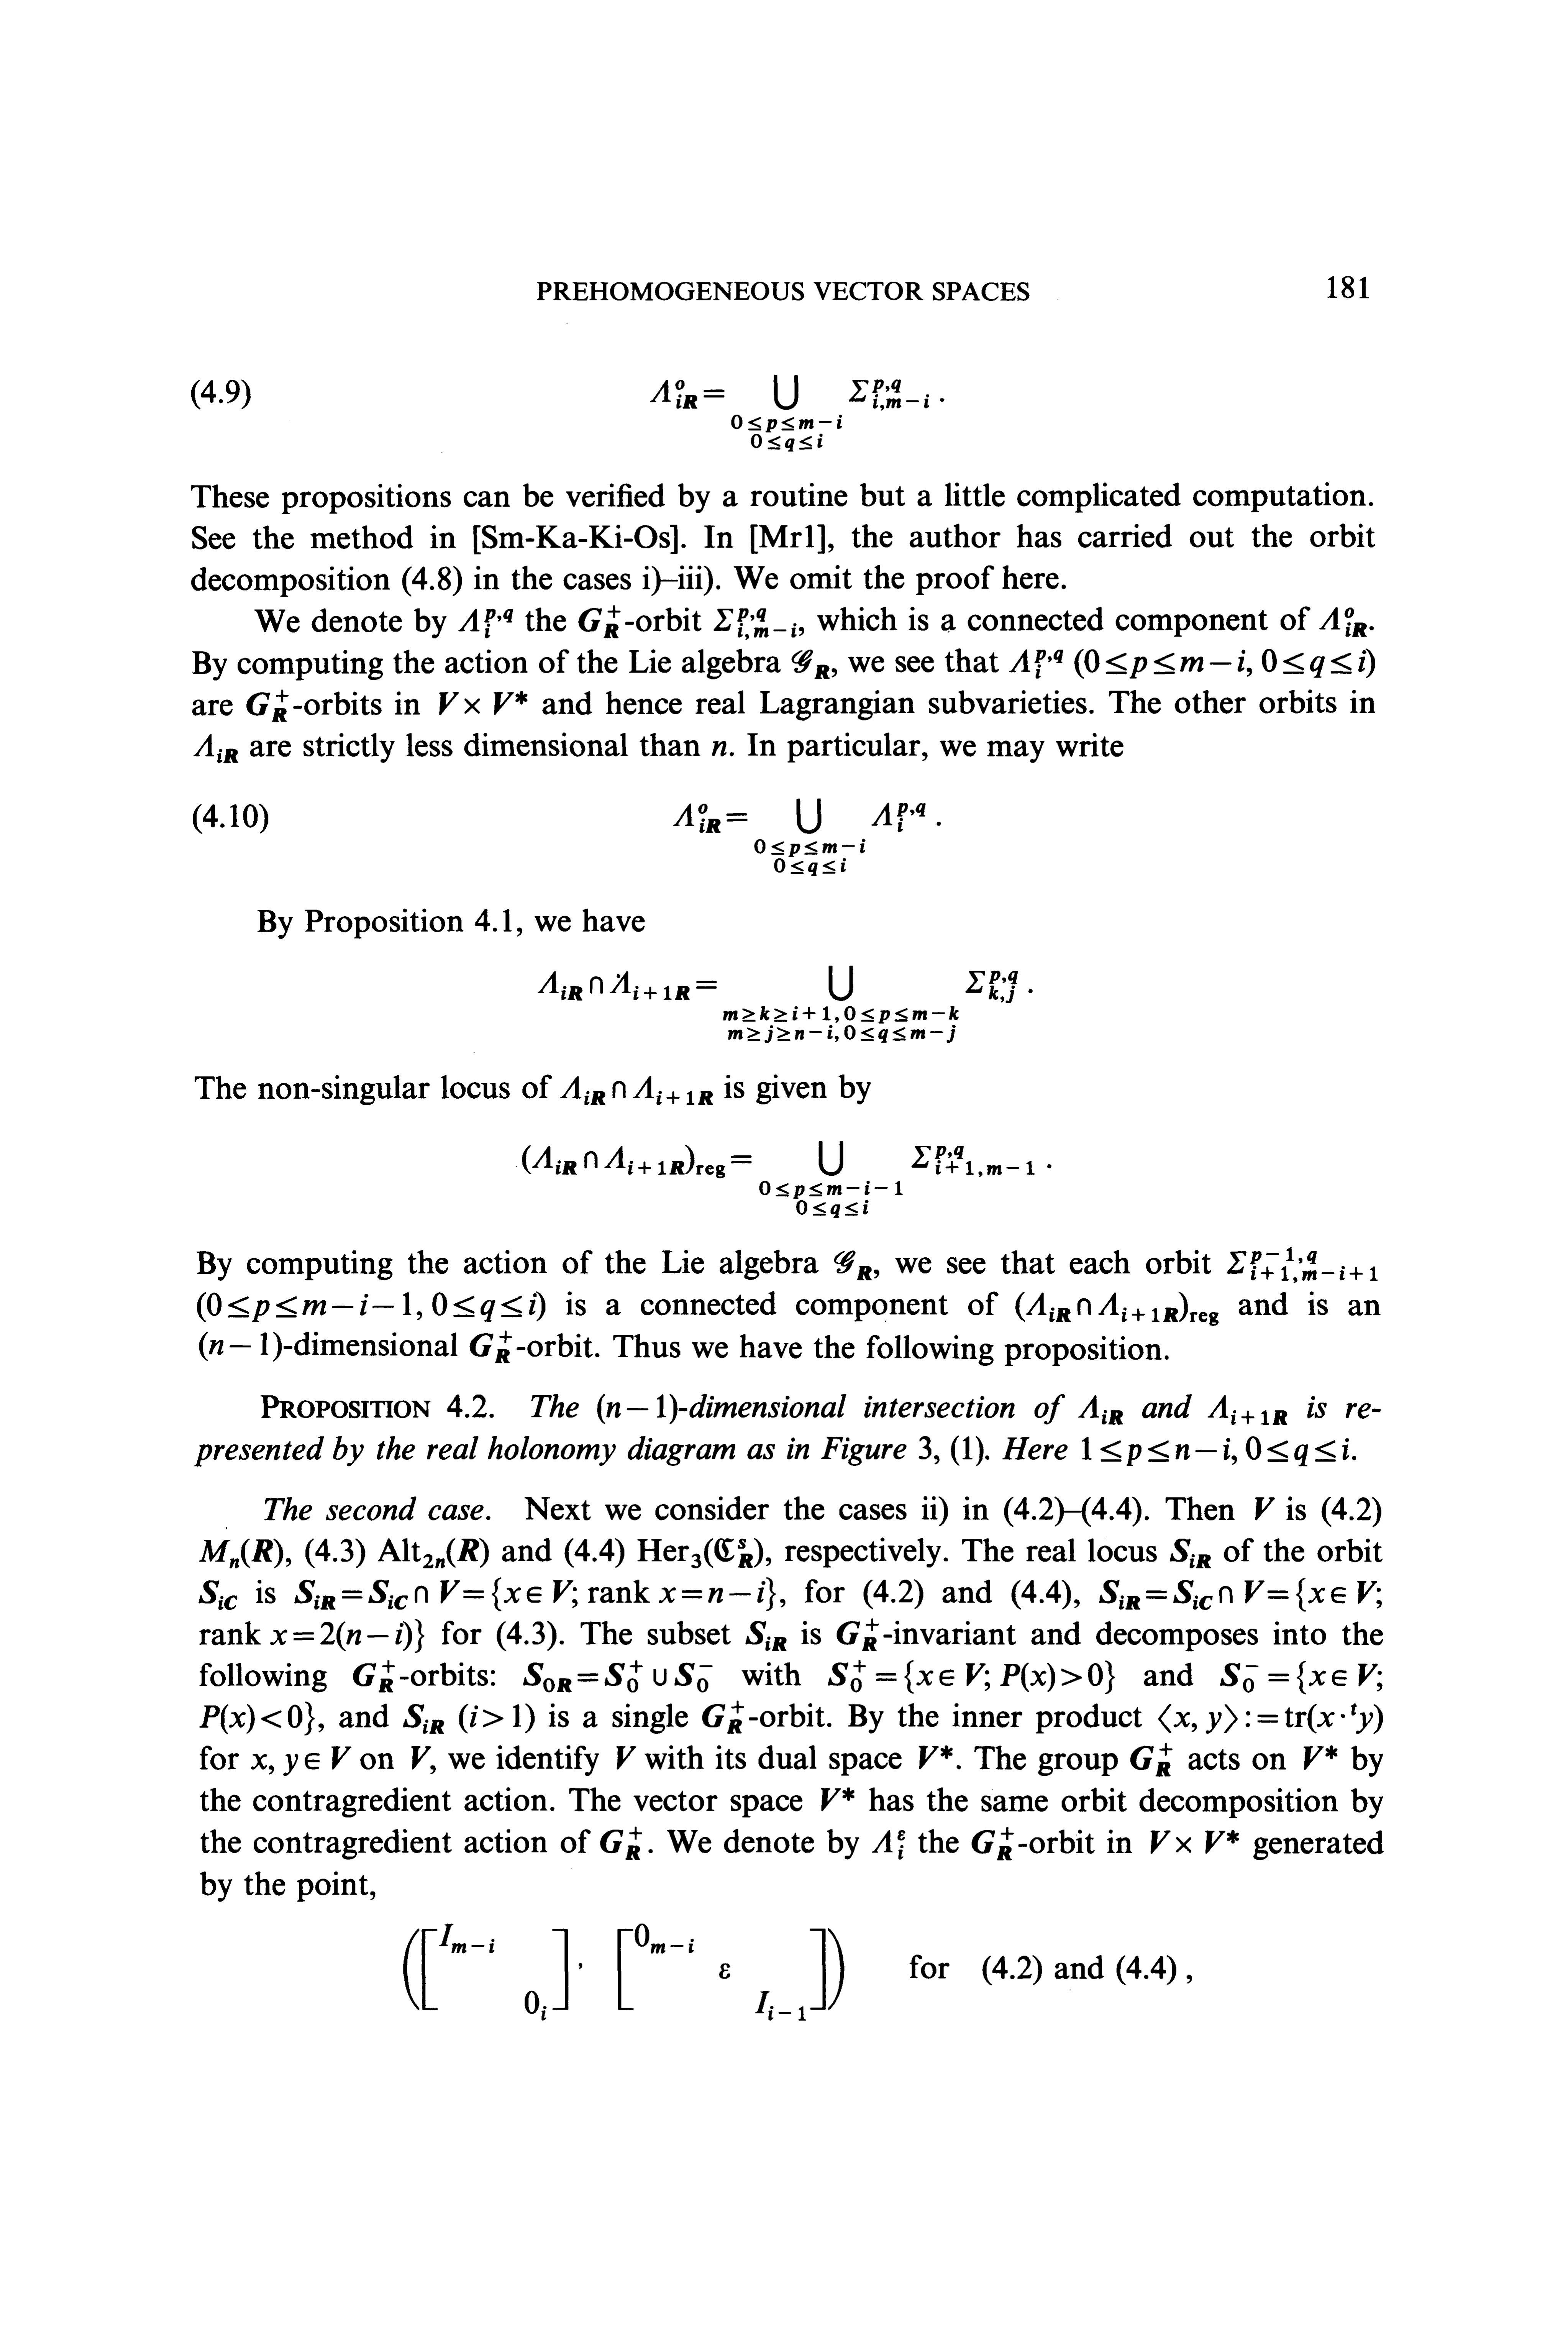maths: (521, 1141, 1034, 1218), (537, 966, 1018, 1043), (618, 1924, 843, 2020), (649, 375, 929, 452), (674, 798, 926, 875), (294, 1577, 775, 1610), (402, 1924, 569, 2020), (1010, 649, 1375, 679), (198, 1292, 544, 1322), (828, 1659, 1115, 1693), (1099, 1579, 1381, 1610), (1081, 1437, 1349, 1465), (199, 1619, 423, 1652), (1015, 1292, 1218, 1325), (1158, 1703, 1382, 1733), (523, 1659, 712, 1693), (1227, 1246, 1377, 1283), (1220, 1661, 1382, 1694), (560, 1076, 712, 1104), (402, 1703, 534, 1733), (199, 1701, 315, 1735), (637, 1539, 763, 1568), (378, 1539, 488, 1568), (250, 1745, 352, 1777), (199, 1539, 283, 1568), (714, 609, 796, 639), (199, 1332, 282, 1362), (597, 1393, 677, 1423), (1207, 1395, 1286, 1425), (439, 691, 527, 714), (1151, 1831, 1239, 1854), (458, 609, 513, 639), (1319, 607, 1367, 637), (577, 606, 619, 639), (469, 1330, 511, 1364), (1130, 1743, 1172, 1777), (971, 1827, 1013, 1861), (1078, 1395, 1123, 1425), (353, 1659, 394, 1693), (247, 690, 289, 721), (836, 1619, 878, 1651), (702, 1701, 744, 1733), (600, 1827, 642, 1859), (194, 733, 238, 763), (1169, 1539, 1211, 1568), (745, 1621, 786, 1651), (791, 649, 829, 679), (198, 1581, 236, 1610), (835, 1250, 871, 1280), (871, 1831, 905, 1859), (919, 1745, 952, 1770), (1304, 1745, 1337, 1770), (821, 1787, 854, 1812), (411, 1745, 430, 1770), (616, 1745, 635, 1770), (1255, 1497, 1274, 1519), (712, 740, 726, 756)
